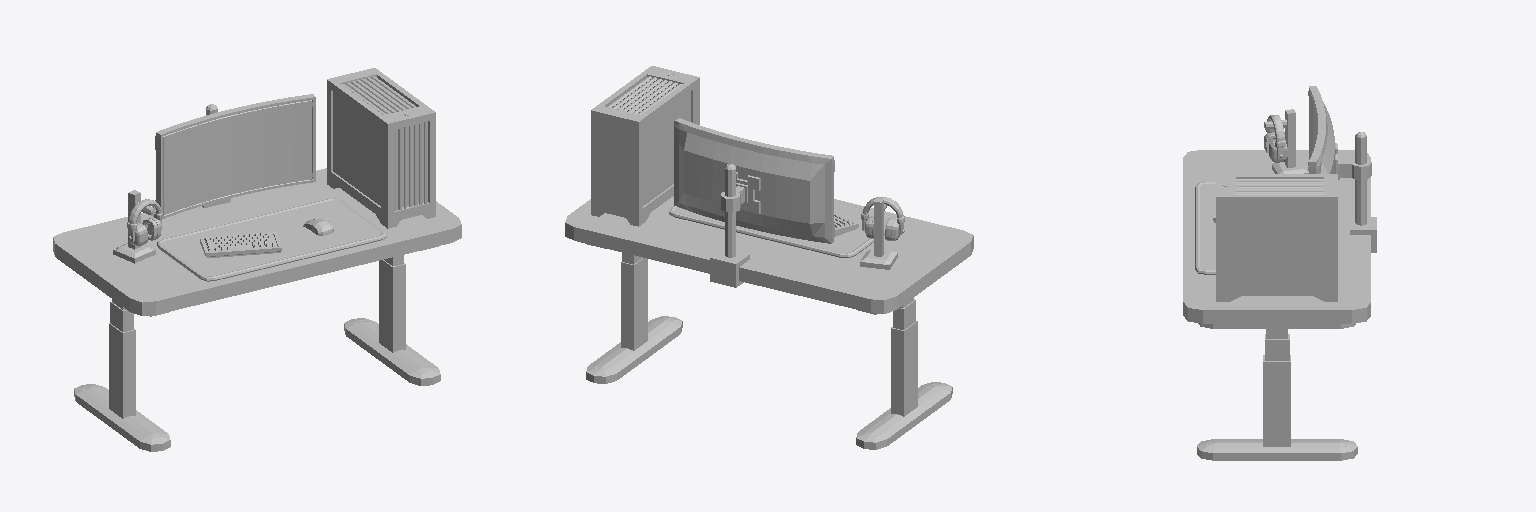
File: setup-gaming-icon.obj
The picture shows the model from 3 angles: view 1: azimuth 30°, elevation 25°; view 2: azimuth 150°, elevation 25°; view 3: azimuth 270°, elevation 25°; orthographic projection.
Parts seen in each view (by area): view 1: setupgaming; view 2: setupgaming; view 3: setupgaming.
Boxes of the visible parts, x1=… form: setupgaming: x1=53, y1=68, x2=461, y2=451; setupgaming: x1=565, y1=66, x2=973, y2=449; setupgaming: x1=1183, y1=86, x2=1376, y2=460.
Size of the model in its own units: 0.4938 by 0.3777 by 0.251.